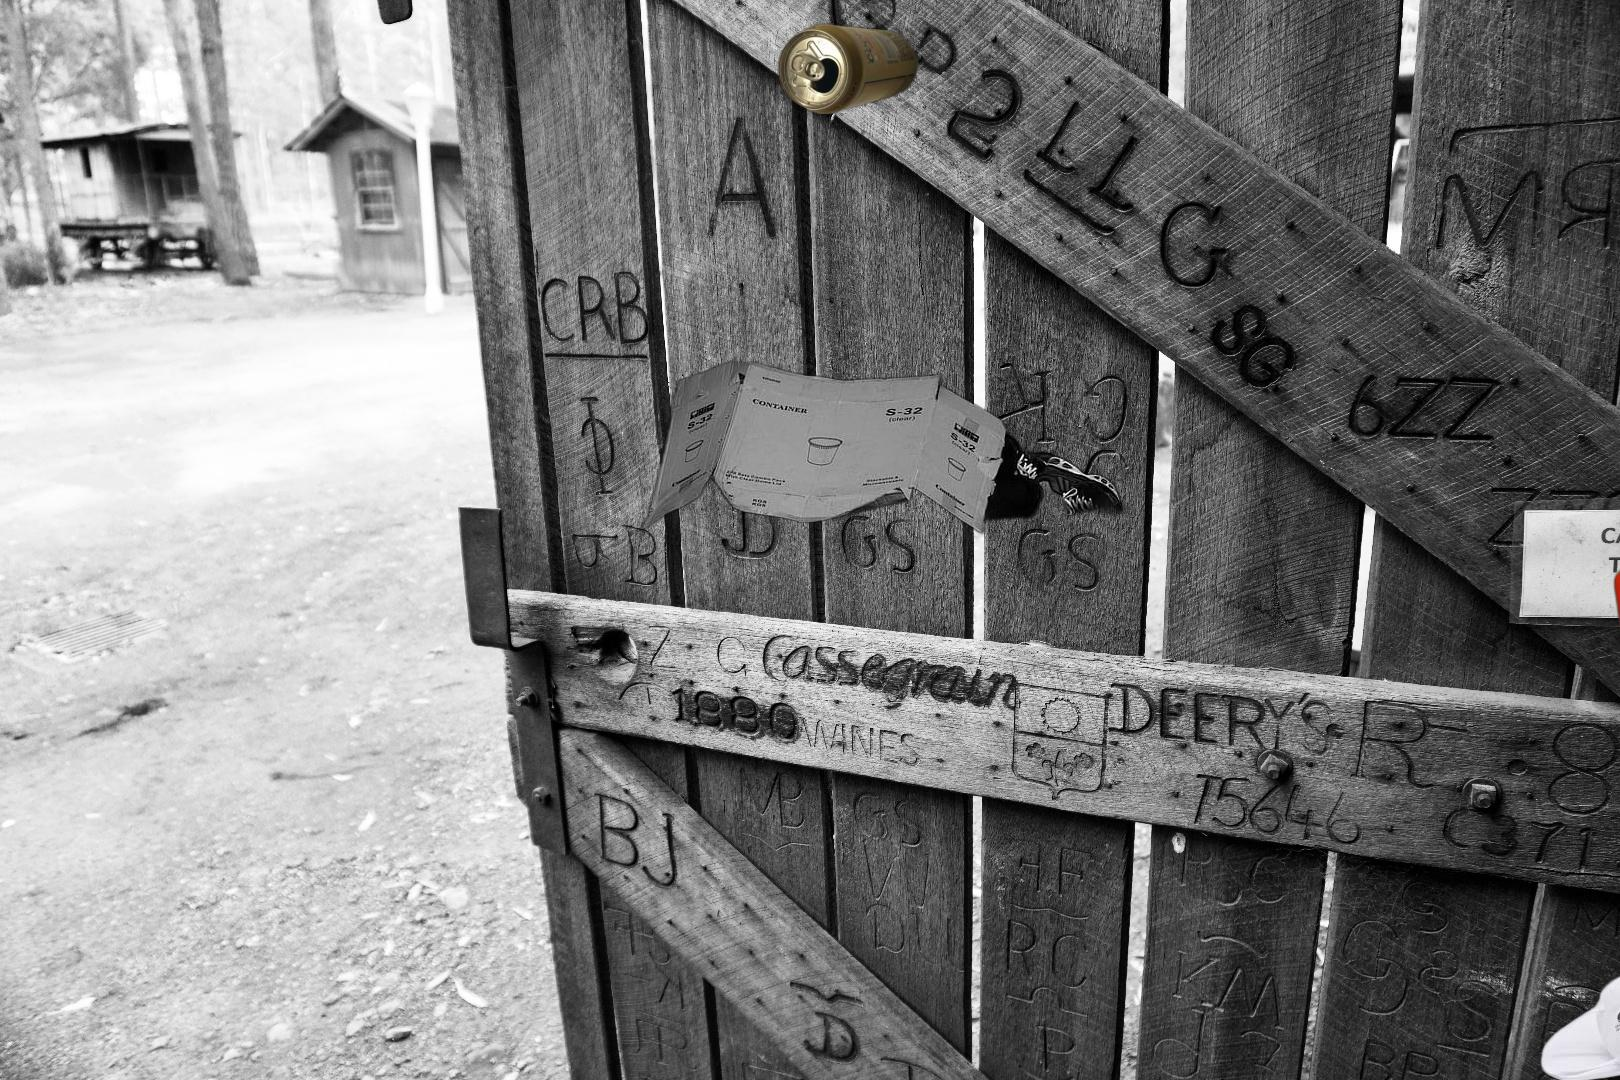metal-cans: (774, 20, 922, 118), (1609, 552, 1620, 762)
trash: (1537, 965, 1620, 1080)
trashbox-cardboard: (632, 356, 1131, 553)
